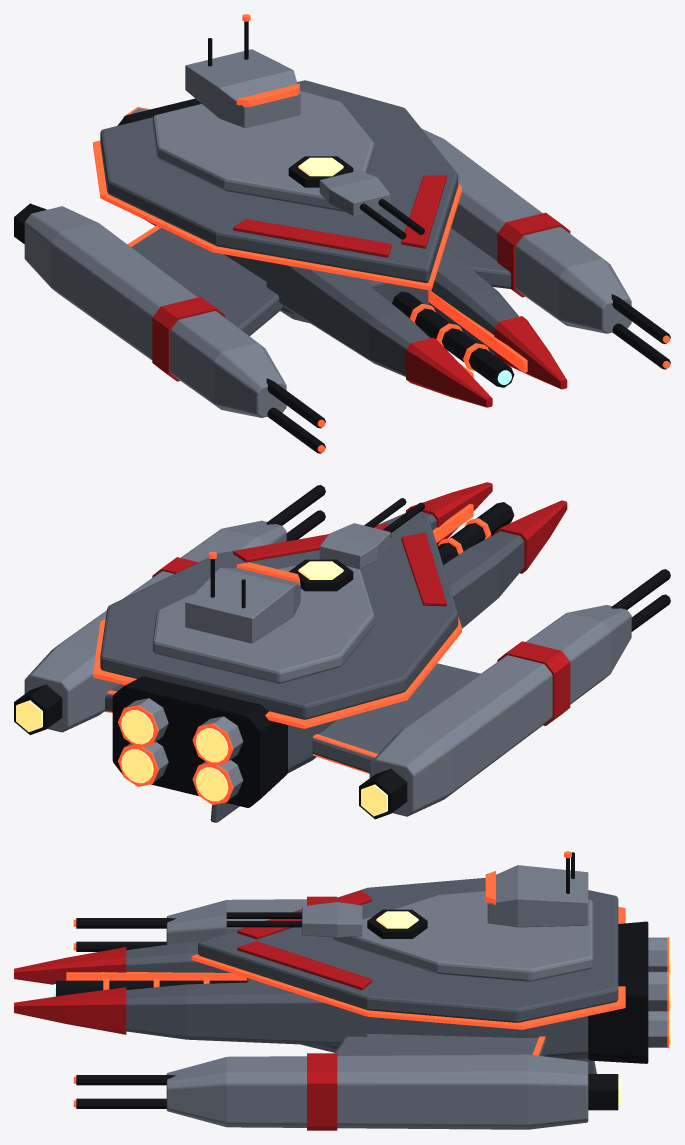
Rendered from spiral_warden.glb.
3 views of the same model, one above another, from view 1: azimuth 30°, elevation 25°; view 2: azimuth 150°, elevation 25°; view 3: azimuth 270°, elevation 25° (orthographic). The views are drawn at different scales.
Parts seen in each view (by area): view 1: Deck, PodL, Deck2, PodR, ProngL, StrutL, Bridge, ProngR, DeckGlow, ProngCapL, Railgun, ProngCapR (+16 smaller); view 2: Deck, PodL, Deck2, EngineBlock, PodR, Bridge, StrutL, ProngL, DeckGlow, Turret, PodBandL, ProngCapL (+23 smaller); view 3: PodR, Deck, Deck2, ProngR, EngineBlock, Bridge, Core, StrutR, DeckGlow, ProngCapR, PodL, PodBandR (+19 smaller).
Boxes of the visible parts, <box> form: Deck: <box>100,80,458,282</box>; PodL: <box>24,206,286,417</box>; Deck2: <box>152,90,374,211</box>; PodR: <box>421,128,631,333</box>; ProngL: <box>266,262,430,376</box>; StrutL: <box>131,228,282,336</box>; Bridge: <box>185,49,300,128</box>; ProngR: <box>429,247,518,354</box>; DeckGlow: <box>93,140,461,290</box>; ProngCapL: <box>406,337,492,407</box>; Railgun: <box>392,291,514,387</box>; ProngCapR: <box>494,316,567,389</box>; Deck: <box>100,517,458,719</box>; PodL: <box>369,605,631,816</box>; Deck2: <box>152,565,374,683</box>; EngineBlock: <box>112,676,287,807</box>; PodR: <box>24,520,286,732</box>; Bridge: <box>185,568,300,643</box>; StrutL: <box>312,663,480,772</box>; ProngL: <box>443,531,524,628</box>; DeckGlow: <box>93,617,461,728</box>; Turret: <box>319,523,390,569</box>; PodBandL: <box>497,641,570,725</box>; ProngCapL: <box>494,500,567,573</box>; PodR: <box>166,1054,588,1129</box>; Deck: <box>198,877,618,1022</box>; Deck2: <box>333,891,593,981</box>; ProngR: <box>126,982,367,1045</box>; EngineBlock: <box>588,921,648,1063</box>; Bridge: <box>487,865,588,927</box>; Core: <box>247,978,588,1059</box>; StrutR: <box>335,1034,546,1056</box>; DeckGlow: <box>191,906,625,1029</box>; ProngCapR: <box>14,987,126,1034</box>; PodL: <box>166,899,306,944</box>; PodBandR: <box>307,1053,337,1130</box>.
Bounding box in the file's own units: 0.431 × 0.26 × 0.6545.
